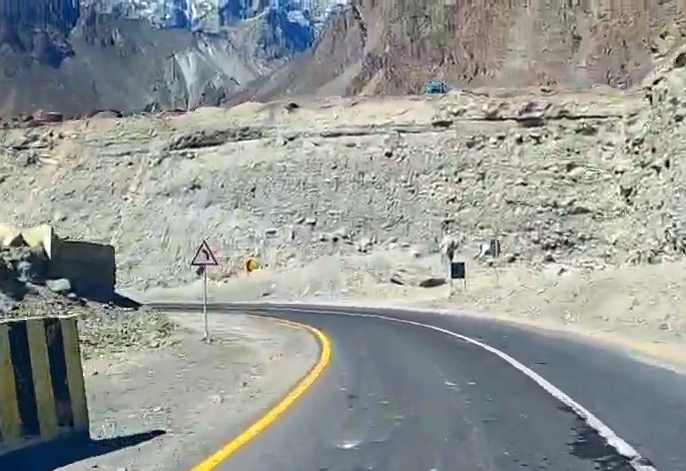right: (171, 242, 616, 419)
